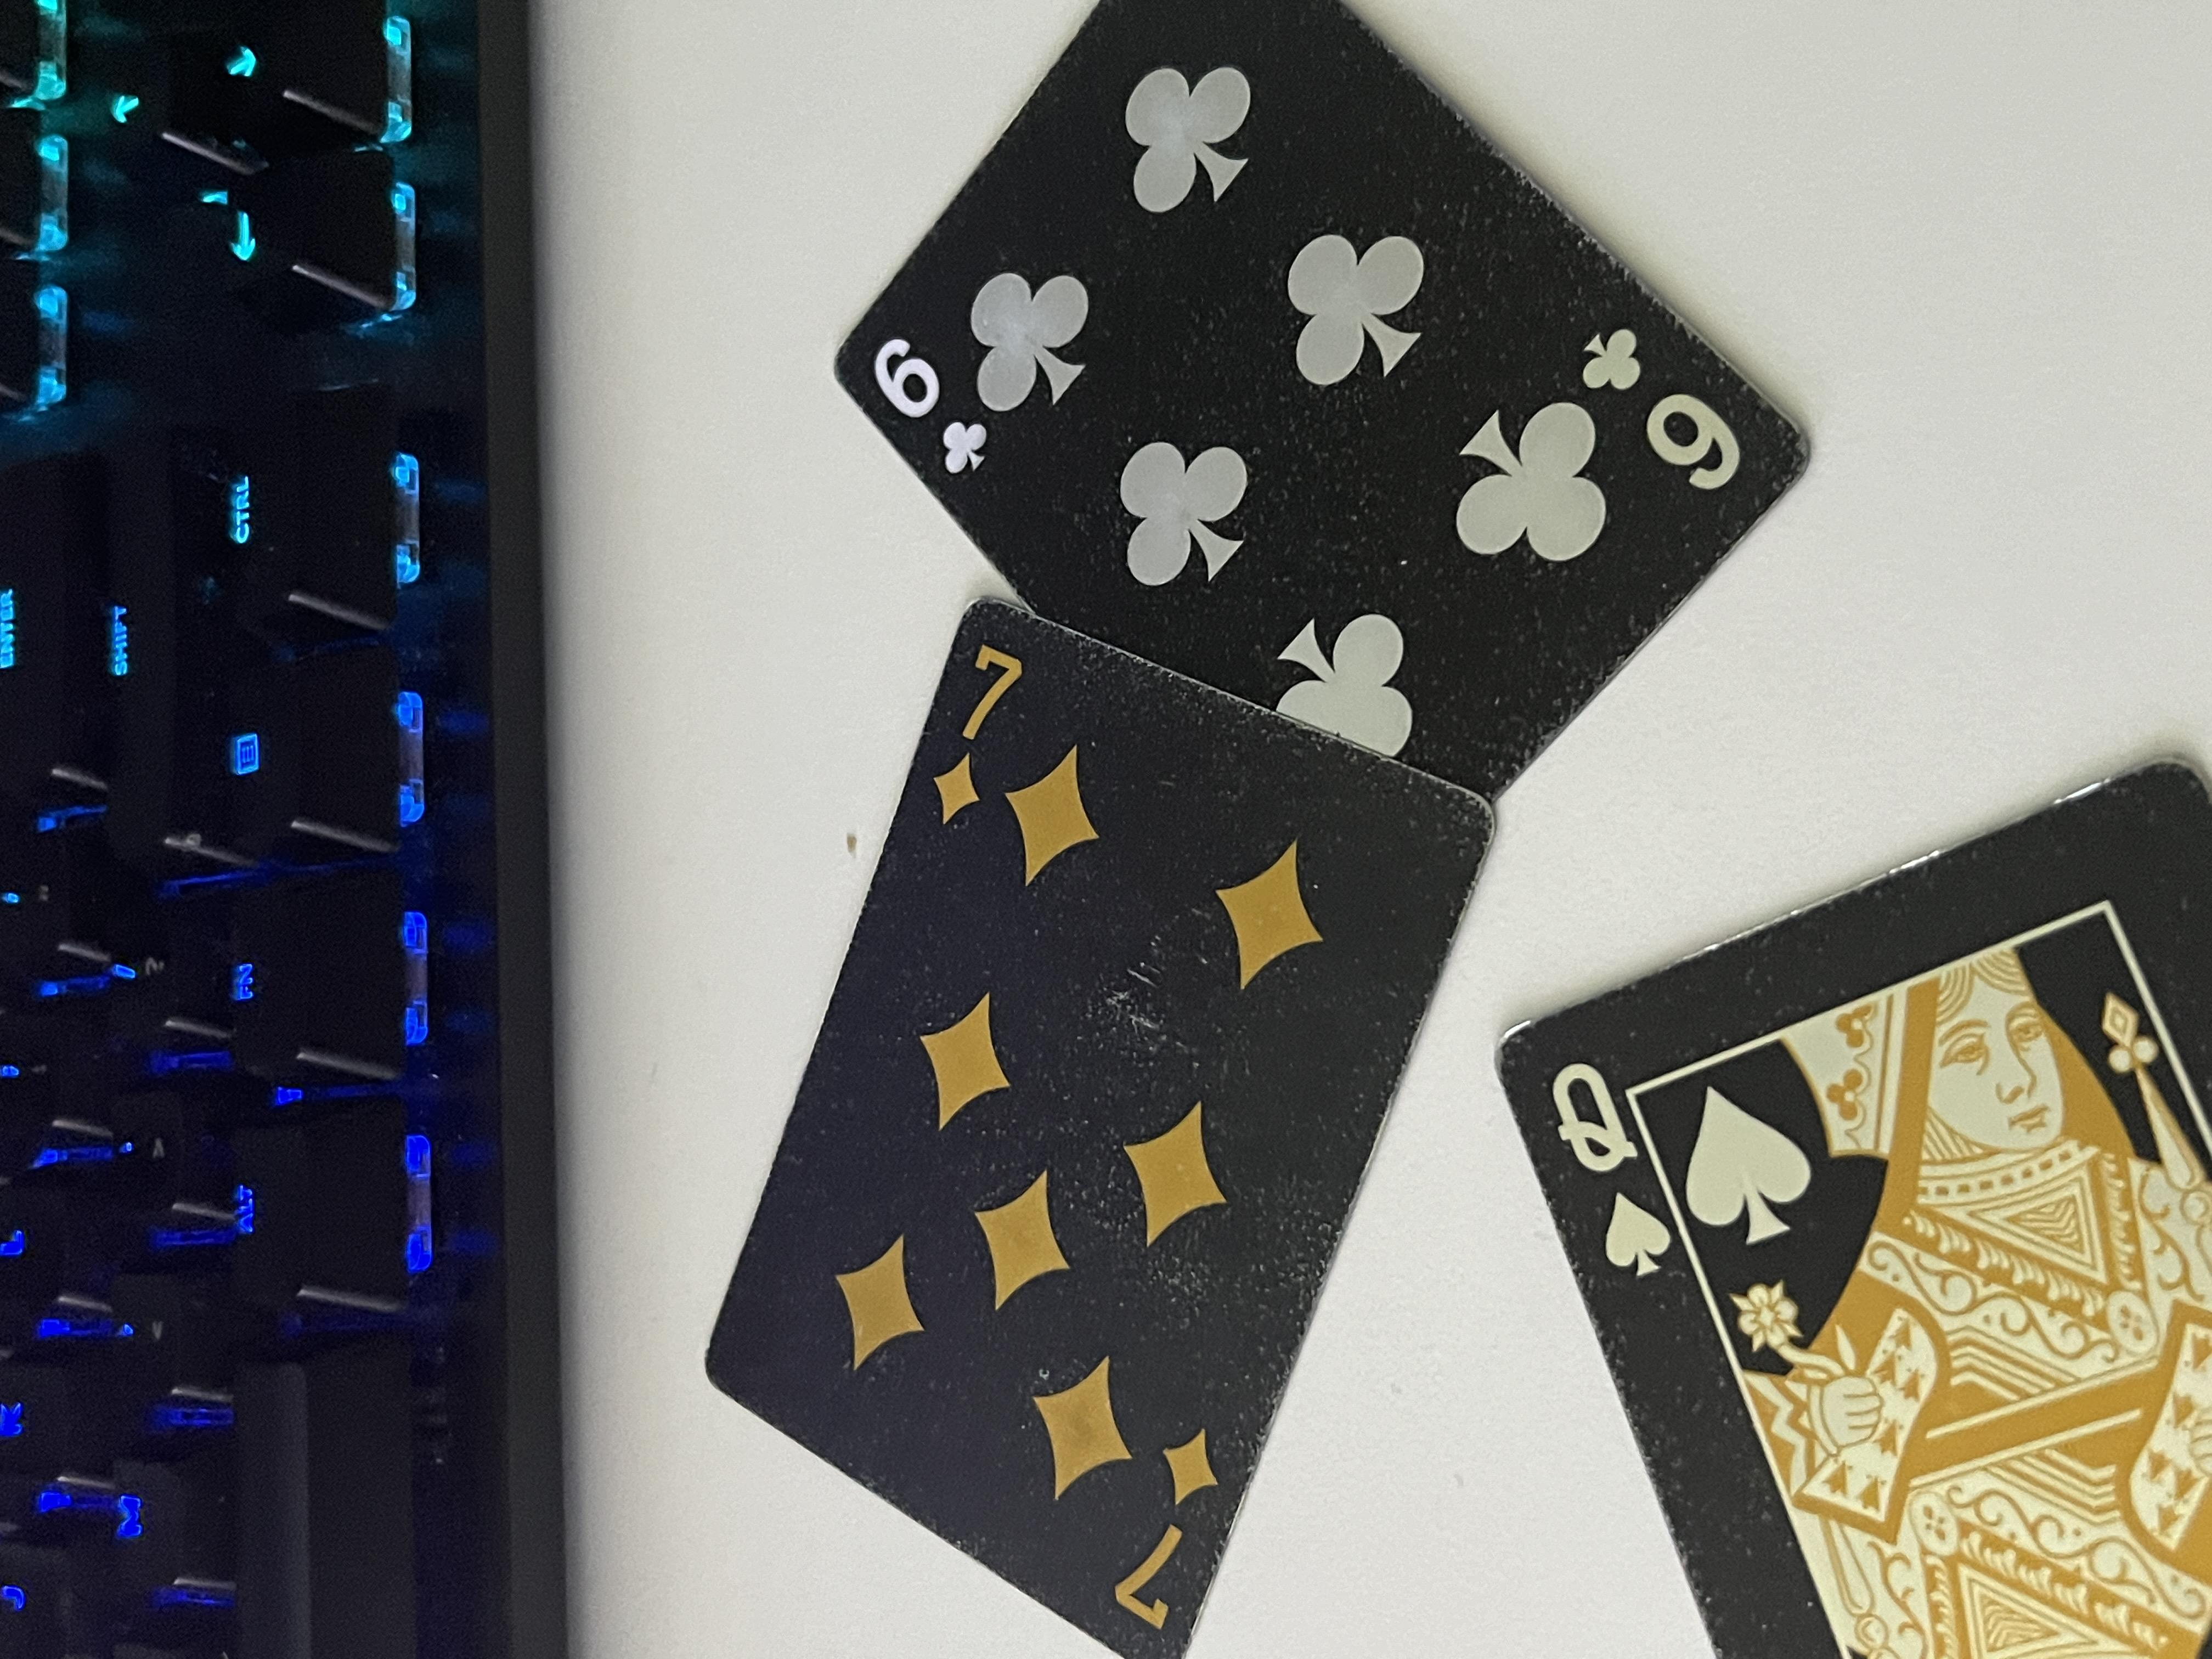6C: (1522, 631, 1796, 765), (1543, 1178, 1785, 1326)
7D: (40, 831, 322, 938), (1097, 676, 1383, 777)
QS: (453, 1140, 805, 1246)
